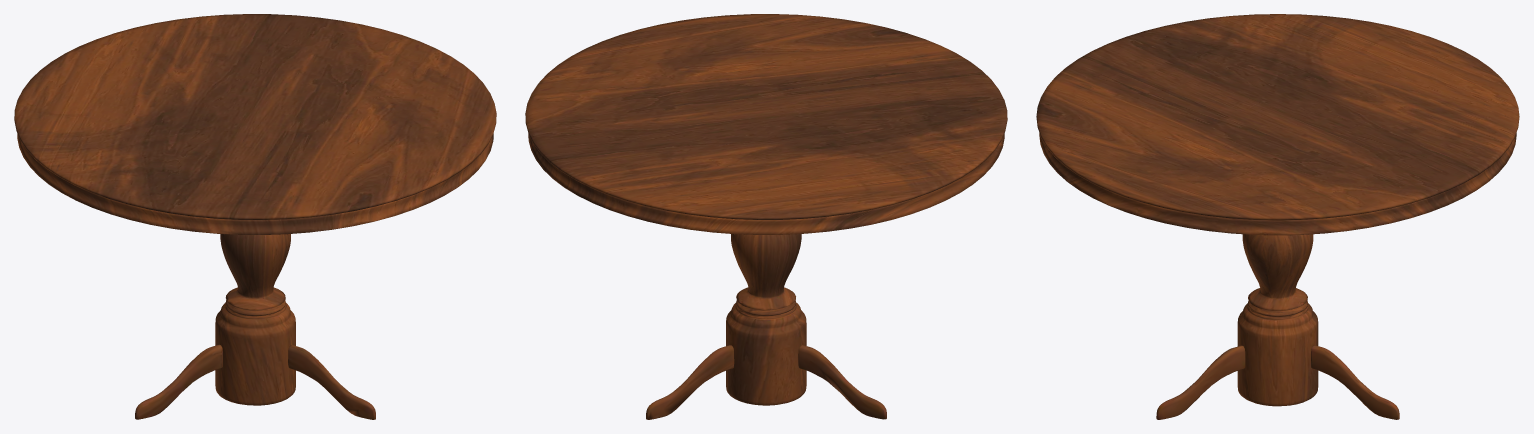
Rendered from dining_table_wood_round.glb.
The picture shows the model from 3 angles, left to right: view 1: azimuth 30°, elevation 25°; view 2: azimuth 150°, elevation 25°; view 3: azimuth 270°, elevation 25°; orthographic projection.
Visible parts, largest first — view 1: Table_DarkWood_0; view 2: Table_DarkWood_0; view 3: Table_DarkWood_0.
Part boxes in pixels (x1,y1,x2,y2): Table_DarkWood_0: (14,14,496,419); Table_DarkWood_0: (525,14,1007,419); Table_DarkWood_0: (1036,14,1519,419).
Bounding box in the file's own units: 1.15 × 0.7259 × 1.15.
1 material, 1 textured.
